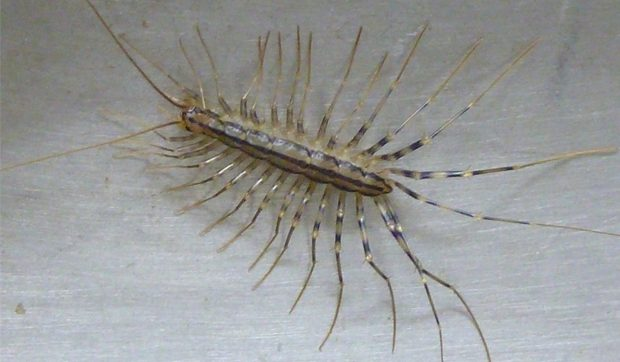centipede: (112, 25, 618, 361)
